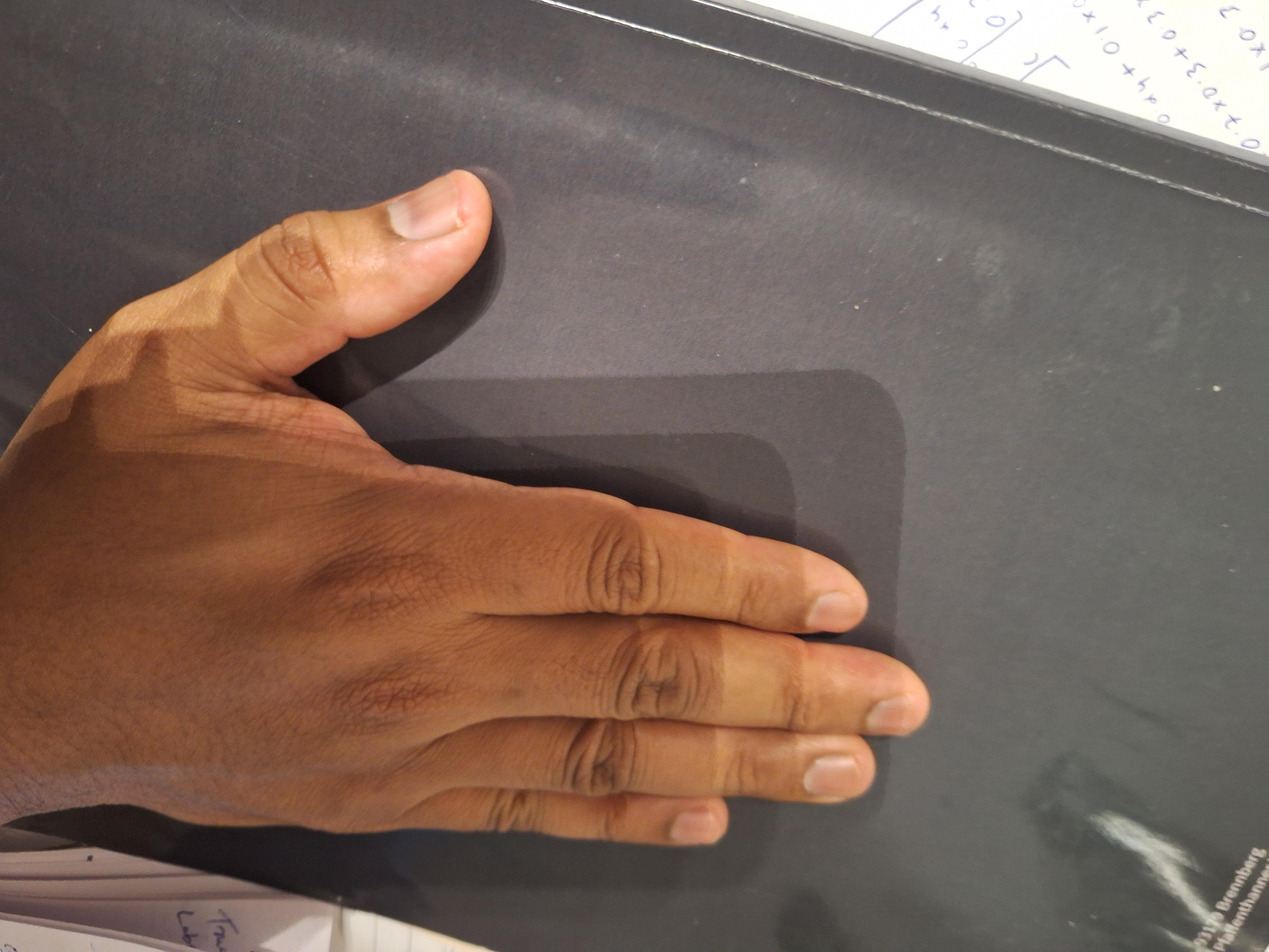Fingernail: (386, 175, 463, 241), (804, 755, 861, 798), (809, 591, 859, 630), (867, 697, 919, 733), (672, 810, 719, 845)
